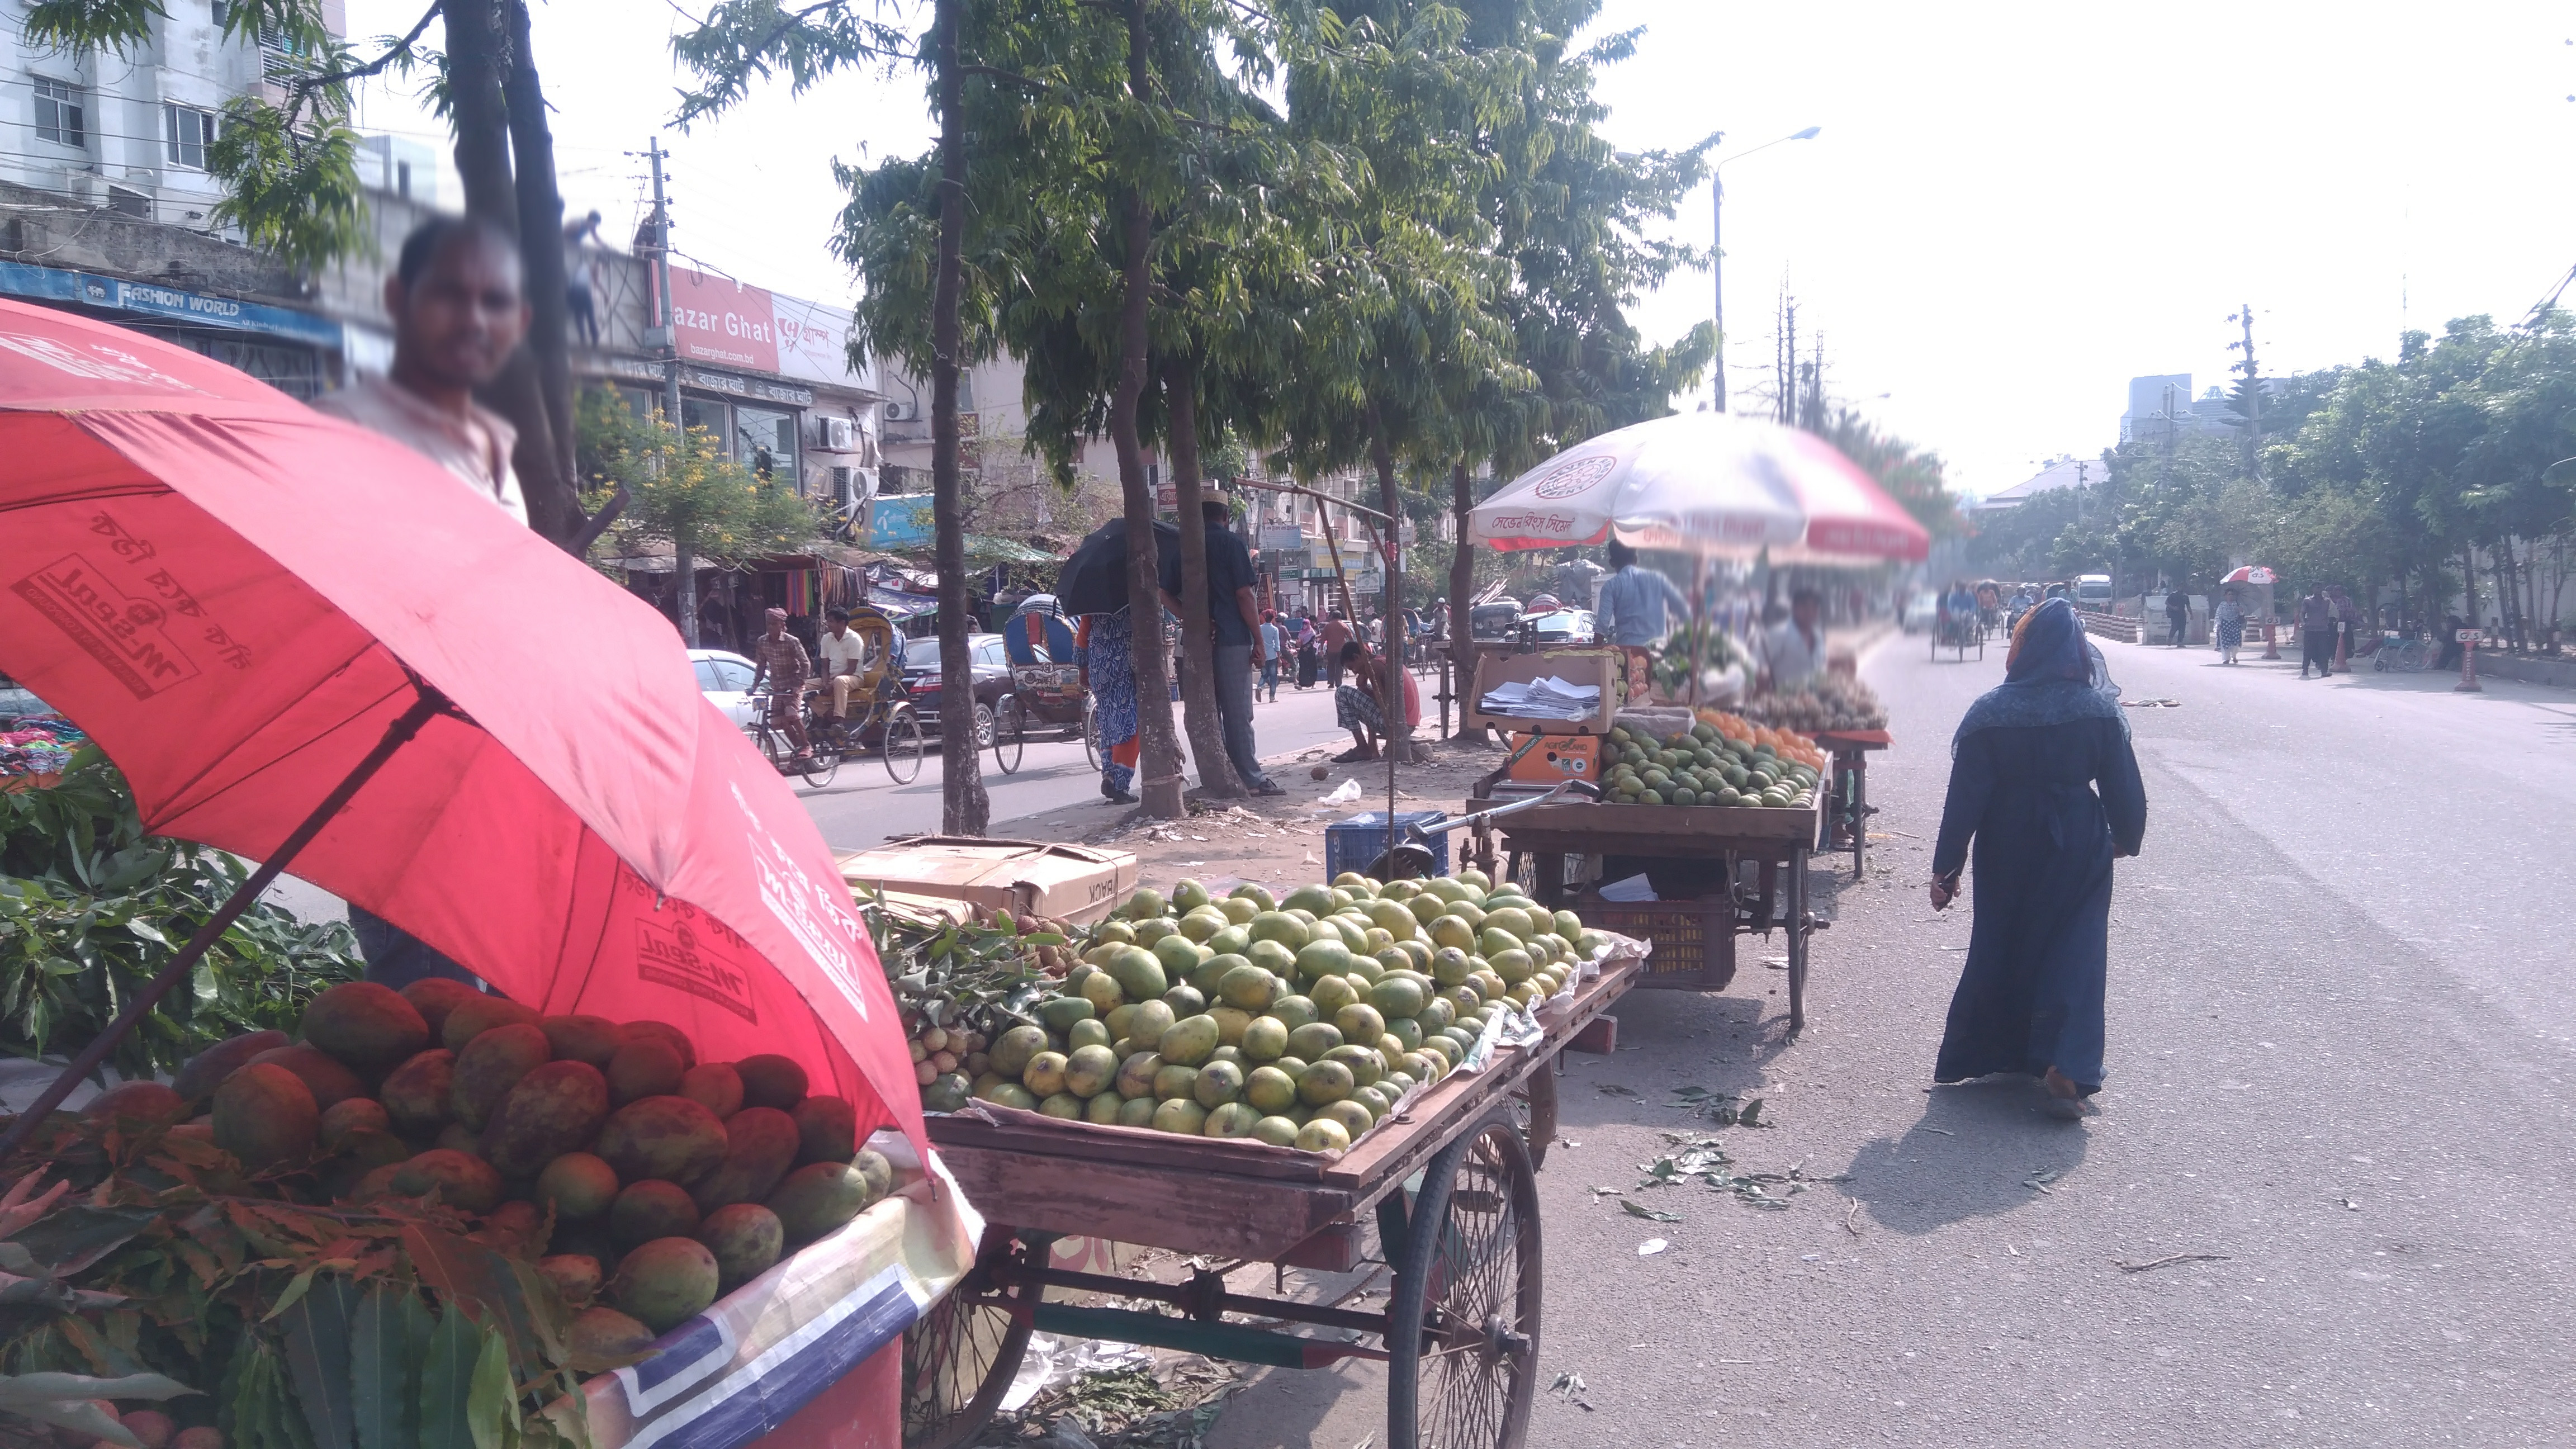car: (888, 628, 1008, 748), (690, 648, 773, 734)
rickshaw: (759, 609, 931, 773), (993, 591, 1104, 777), (1934, 571, 1992, 658)
van: (893, 778, 1651, 1444), (1476, 709, 1842, 1023), (1817, 676, 1895, 879)
